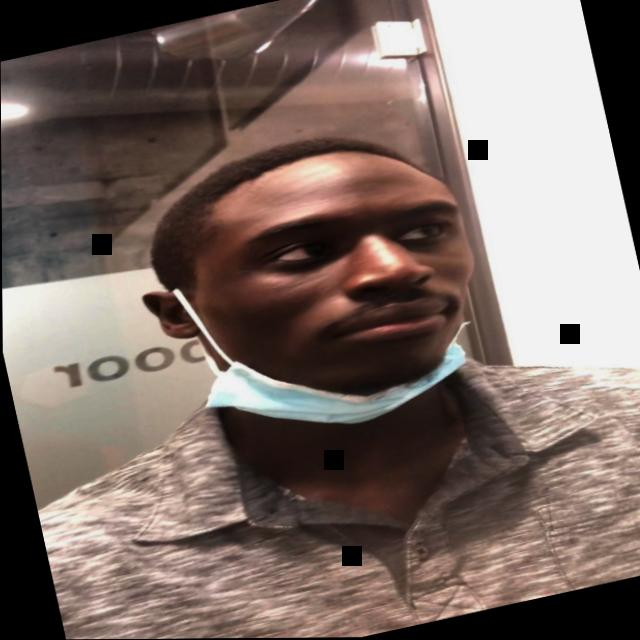NO-Mask: (144, 124, 499, 433)
